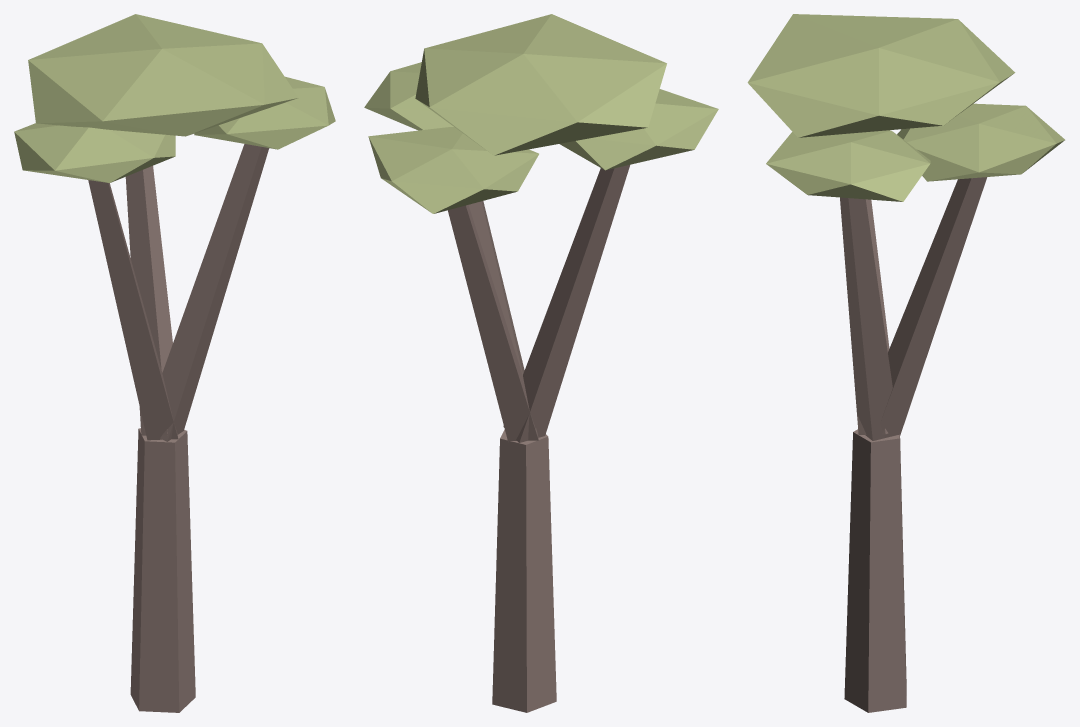
The model's file is arv_acacia_4_sem_textura.glb.
The picture shows the model from 3 angles, left to right: view 1: azimuth 30°, elevation 25°; view 2: azimuth 150°, elevation 25°; view 3: azimuth 270°, elevation 25°; orthographic projection.
Visible parts, largest first — view 1: arv_acacia_4; view 2: arv_acacia_4; view 3: arv_acacia_4.
Boxes of the visible parts, <box> form: arv_acacia_4: <box>14,14,335,712</box>; arv_acacia_4: <box>364,14,718,712</box>; arv_acacia_4: <box>747,14,1064,712</box>.
Size of the model in its own units: 0.8175 by 1.67 by 0.7384.
